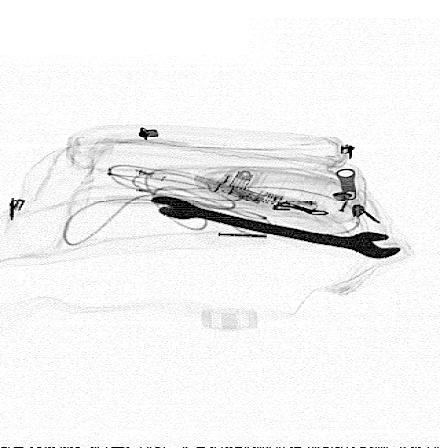Wrench: (150, 195, 406, 260)
